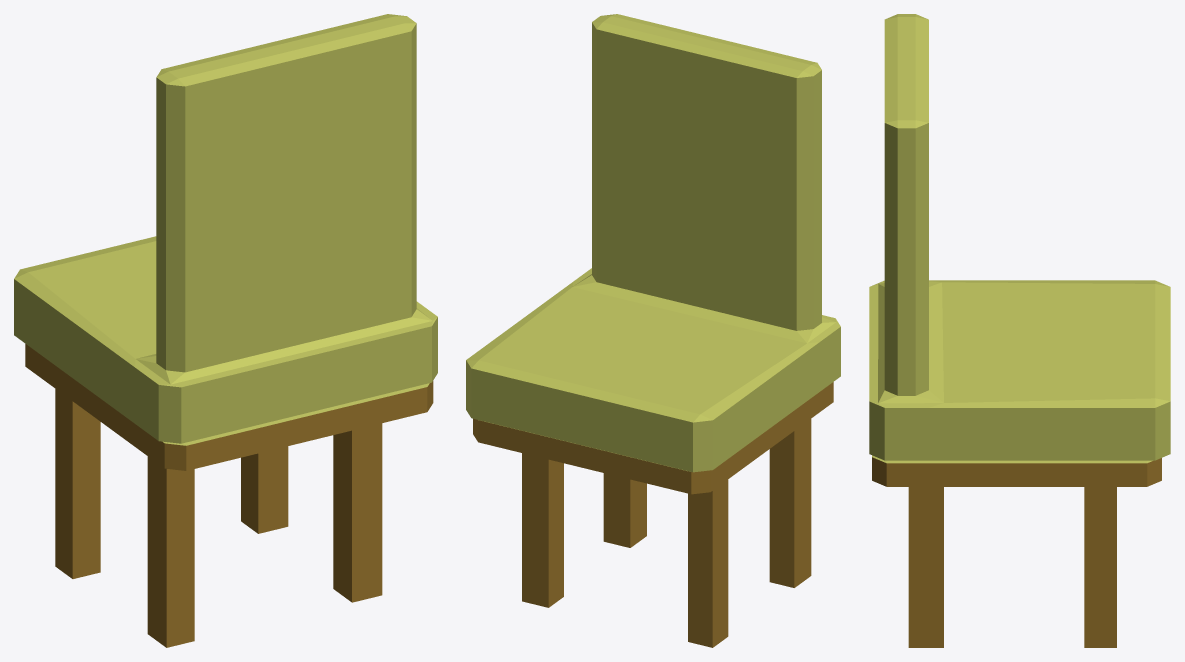
File: Chair.fbx
3 views of the same model, side by side, from view 1: azimuth 30°, elevation 25°; view 2: azimuth 150°, elevation 25°; view 3: azimuth 270°, elevation 25° (orthographic). The views are drawn at different scales.
Visible parts, largest first — view 1: Chair; view 2: Chair; view 3: Chair.
Boxes of the visible parts, x1,y1,x2,y2 form: Chair: [14, 14, 437, 647]; Chair: [466, 14, 840, 647]; Chair: [869, 14, 1170, 647].
Bounding box in the file's own units: 0.3485 × 0.3485 × 0.6827.
